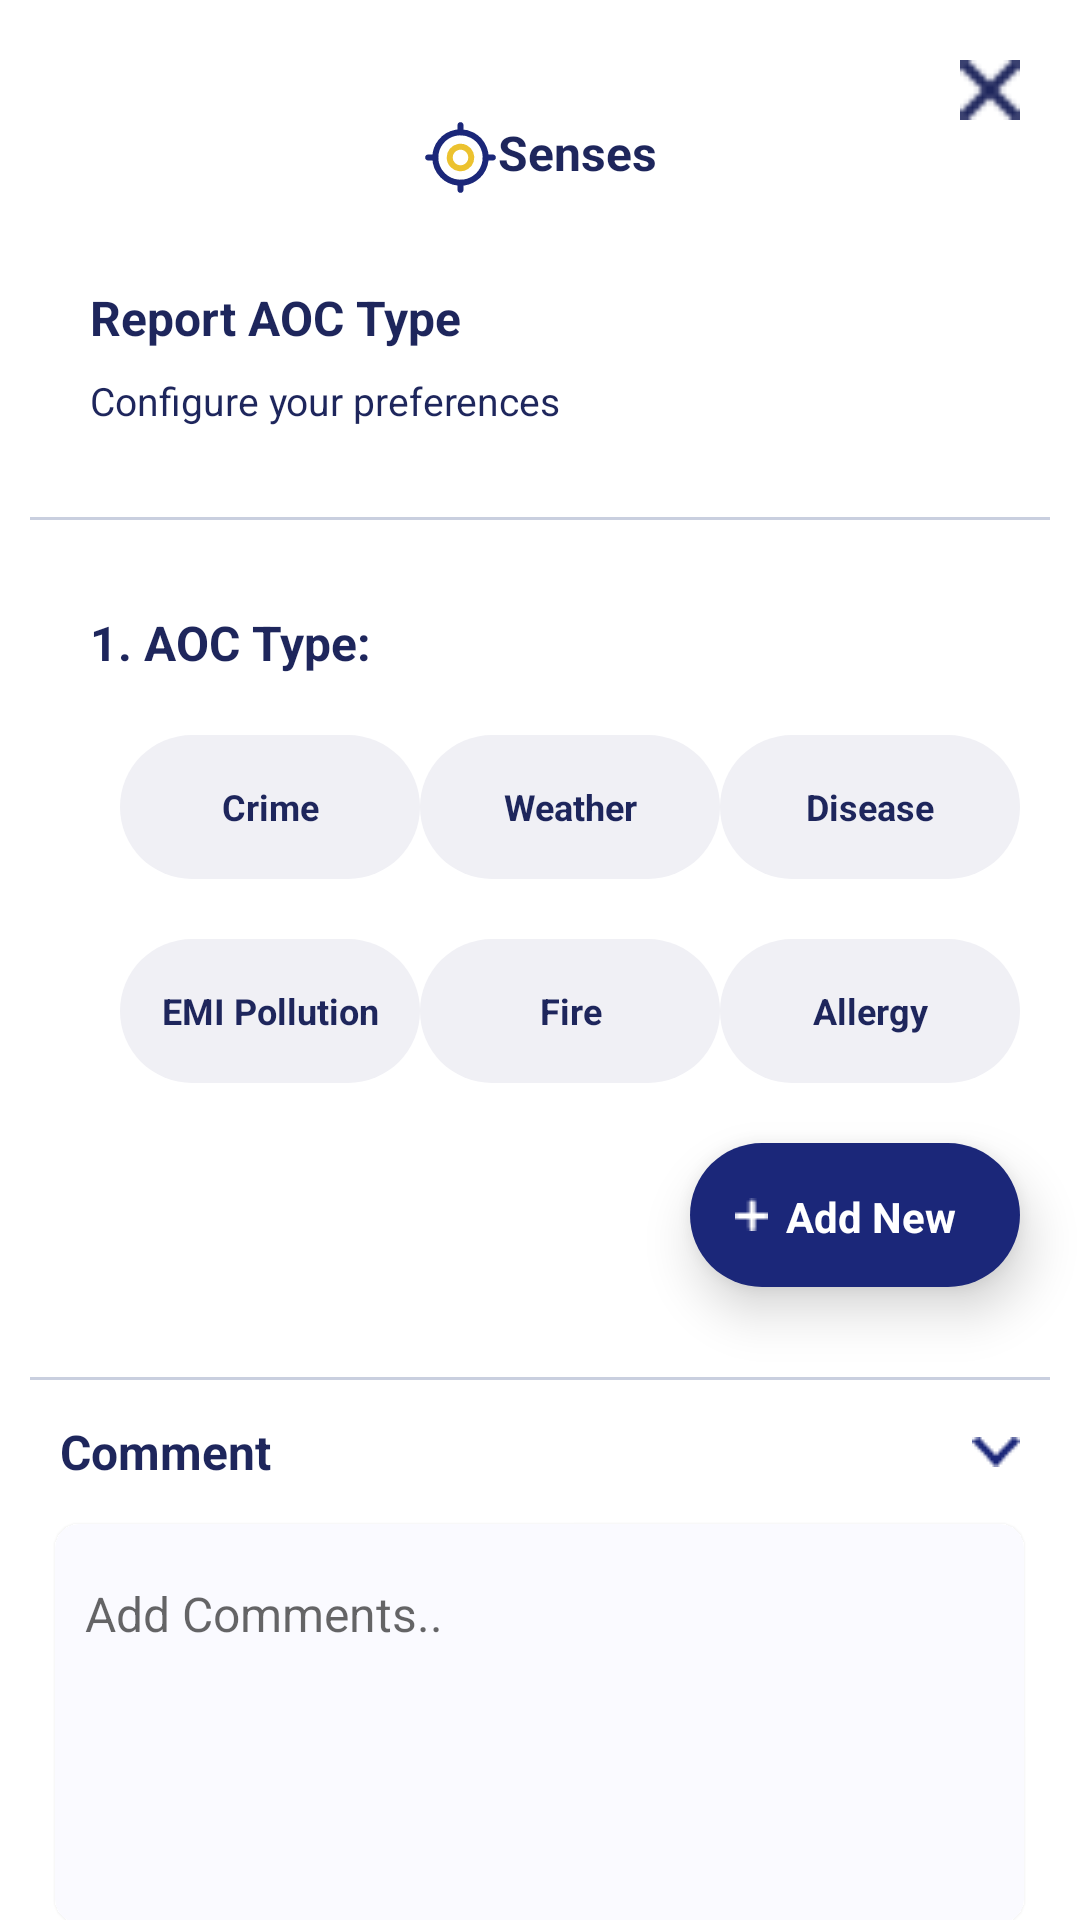

Named icons in this screenshot (1080×1920) and their centers, [x,y]:
close: [990,90]
